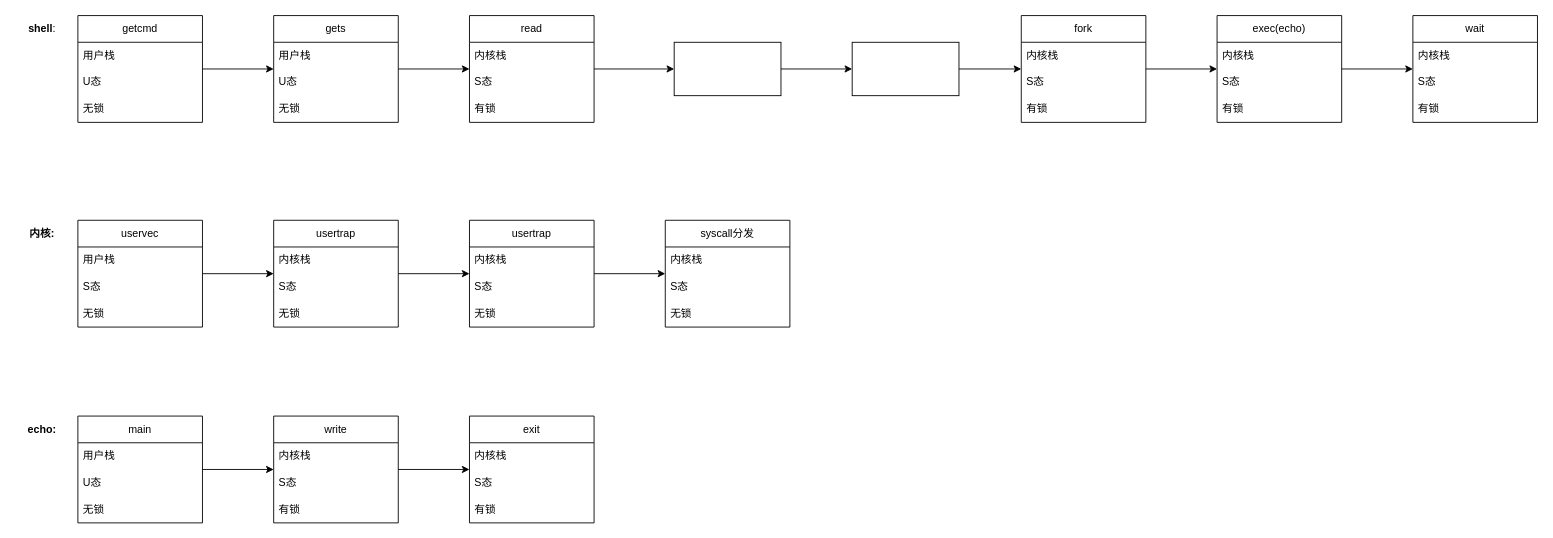
Image size: 1553x538. Some labels were removed from this diagram. The shapes that lost their labels are listed below. From the top down, each one's centre as x and y in pixels, then its label:
the point at 727,68: 阻塞
the point at 905,68: 键盘/uart中断触发
